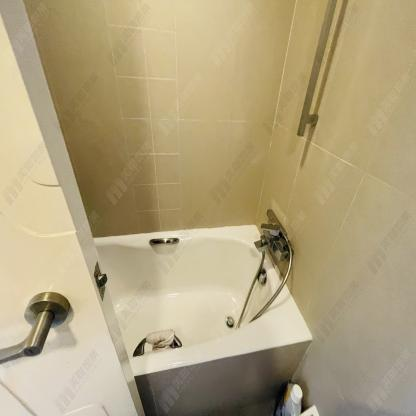Bathtub: (93, 225, 316, 414)
